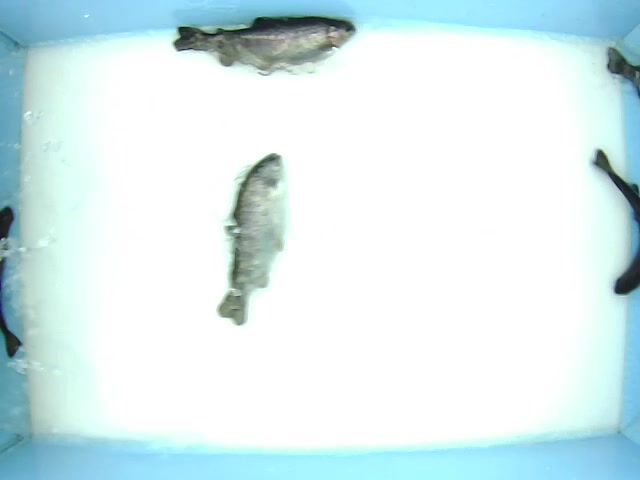fish: (215, 152, 291, 328), (170, 14, 359, 75)
